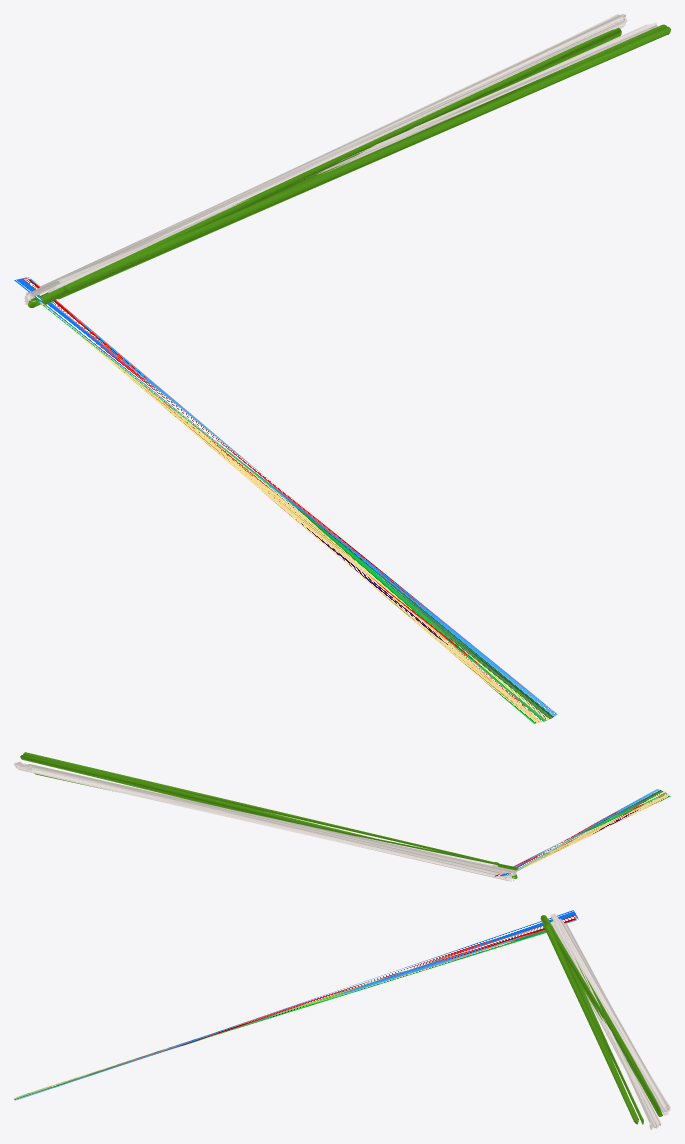
File: bighand.glb
The picture shows the model from 3 angles, top to bottom: view 1: azimuth 30°, elevation 25°; view 2: azimuth 150°, elevation 25°; view 3: azimuth 270°, elevation 25°; orthographic projection. The views are drawn at different scales.
Visible parts, largest first — view 1: op_bighand; view 2: op_bighand; view 3: op_bighand.
Part boxes in pixels (<box>): op_bighand: <box>14,14,670,723</box>; op_bighand: <box>14,752,670,881</box>; op_bighand: <box>14,910,670,1129</box>.
Bounding box in the file's own units: 1752 × 593 × 1970.
6 materials, 6 textured.
